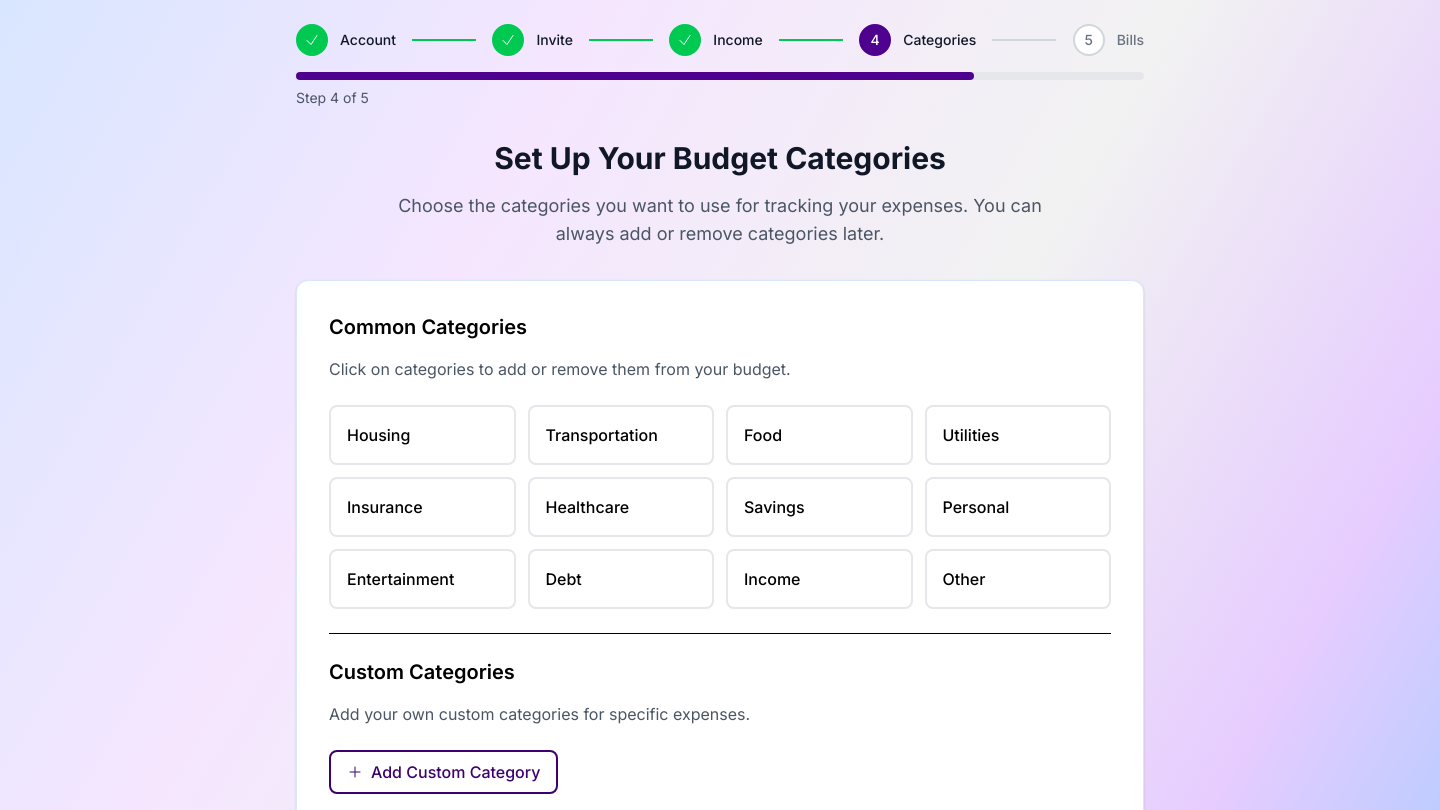
Test: CategoriesOnboardingPage › Category Selection › clears all selections when clear all is clicked
Step 1. Click the button "Housing" → click(422, 435), box [329, 405, 516, 465]
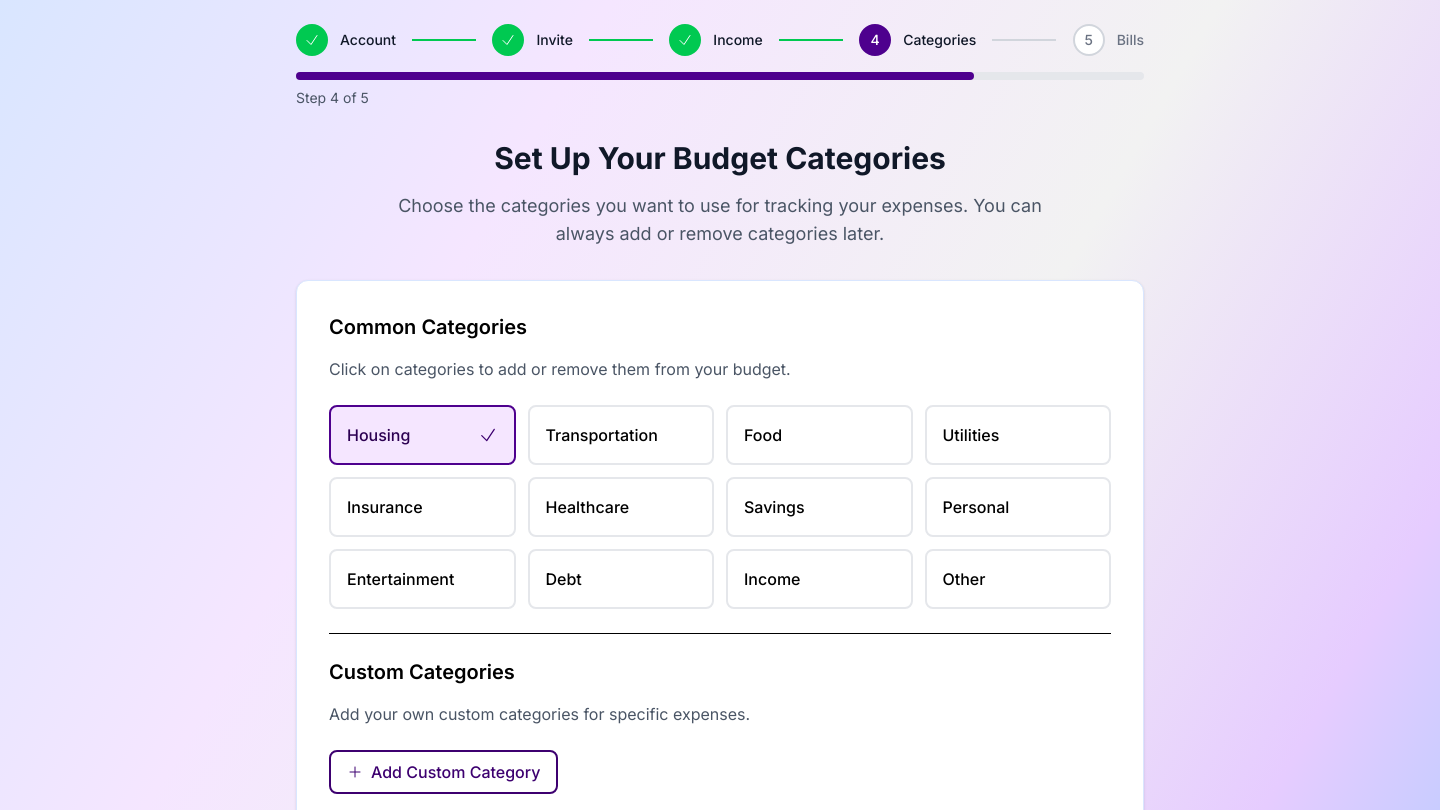
Step 2. Click the button "Food" → click(819, 435), box [726, 405, 912, 465]
(page scrolled)
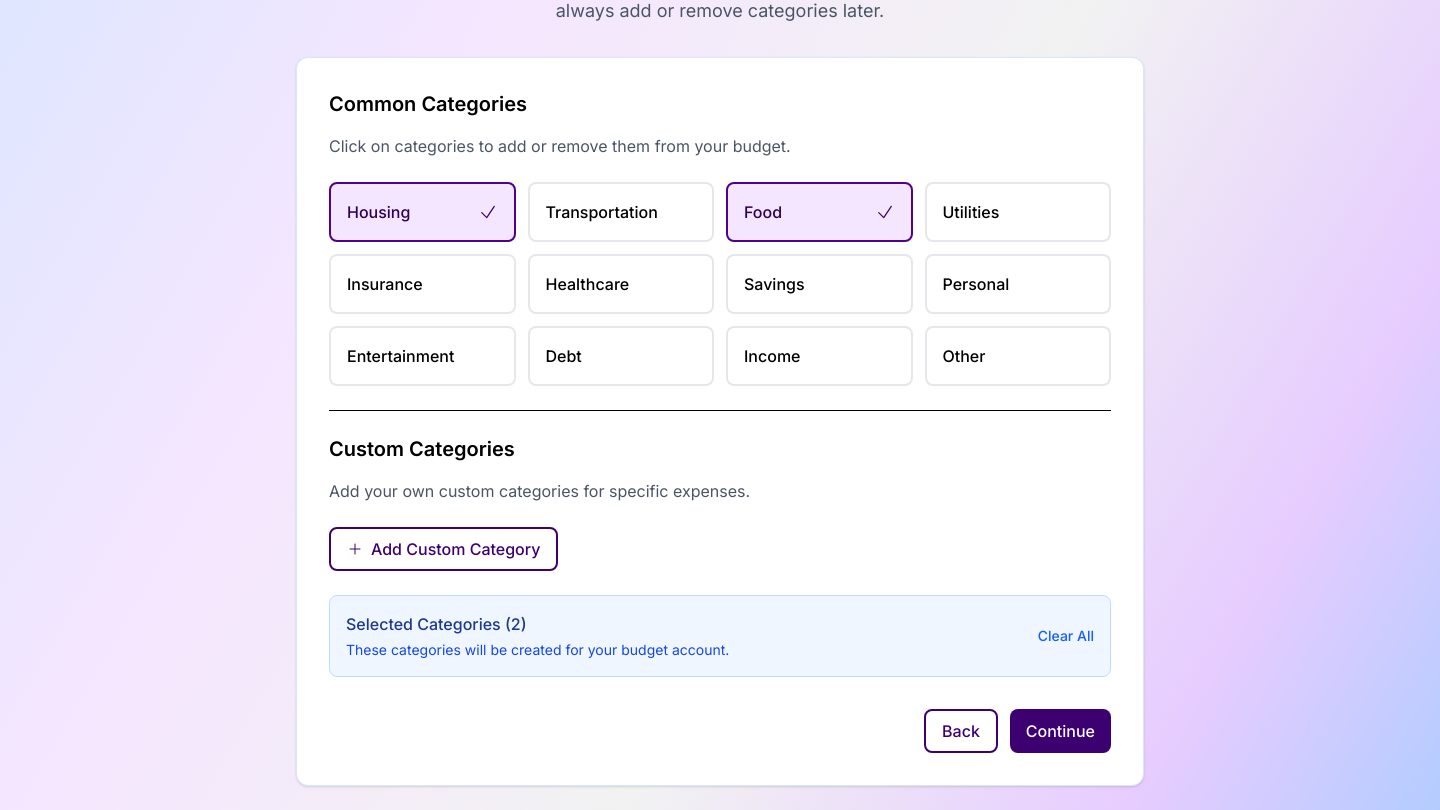
Check: the heading "Selected Categories (2)" is shown, box [346, 614, 527, 634]
// Click clear all
Step 3. Click the button "Clear All" → click(1066, 636), box [1038, 626, 1094, 646]
(page scrolled)
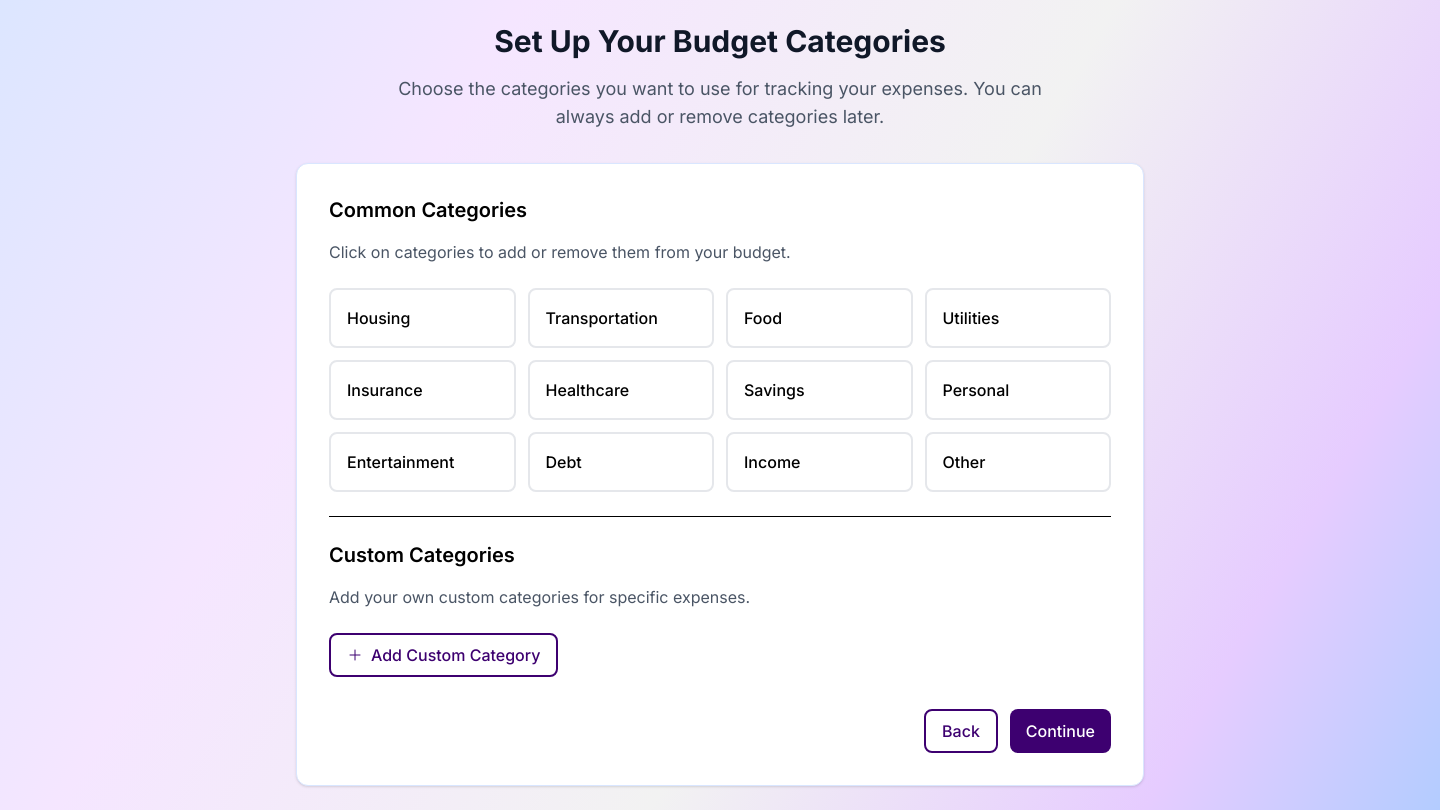
Check: the heading "Selected Categories (2)" is gone
